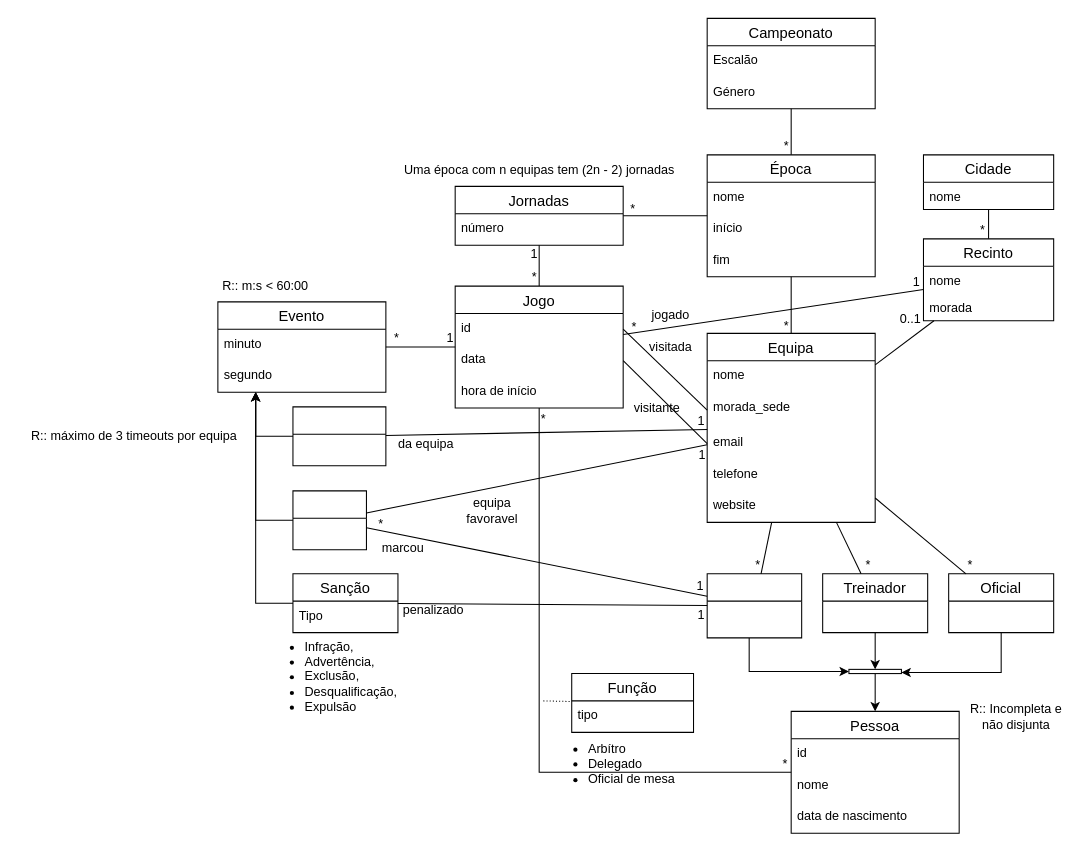
This 1091x855 diagram has some shape labels left out. The shapes that lost their labels are listed below. From the top down, each one's centre as x and y in pixels, then its label:
At [339,436]: "Timeout".
At [329,520]: "Golo".
At [754,605]: "Atleta".
